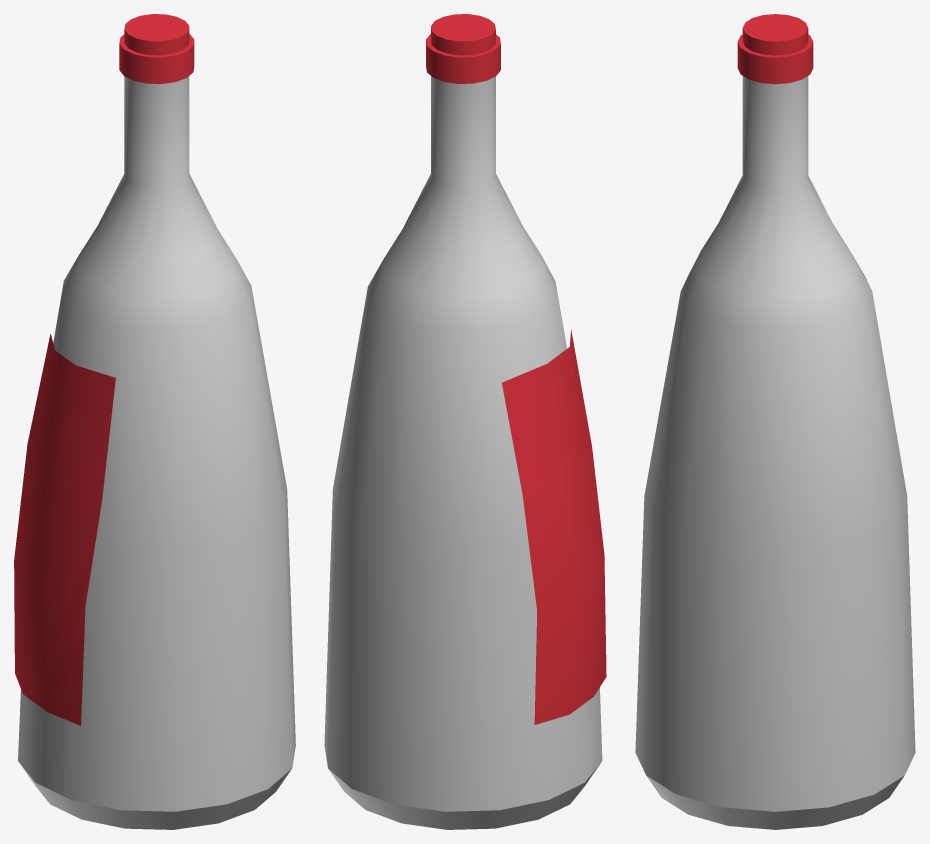
The model's file is BottleLabel_Tavern.fbx.
The picture shows the model from 3 angles, left to right: view 1: azimuth 30°, elevation 25°; view 2: azimuth 150°, elevation 25°; view 3: azimuth 270°, elevation 25°; orthographic projection.
Visible parts, largest first — view 1: BottleLabel_Tavern; view 2: BottleLabel_Tavern; view 3: BottleLabel_Tavern.
Boxes of the visible parts, <box> form: BottleLabel_Tavern: <box>14,14,295,829</box>; BottleLabel_Tavern: <box>324,14,606,829</box>; BottleLabel_Tavern: <box>635,14,915,829</box>.
Bounding box in the file's own units: 16.28 × 47.76 × 16.16.
